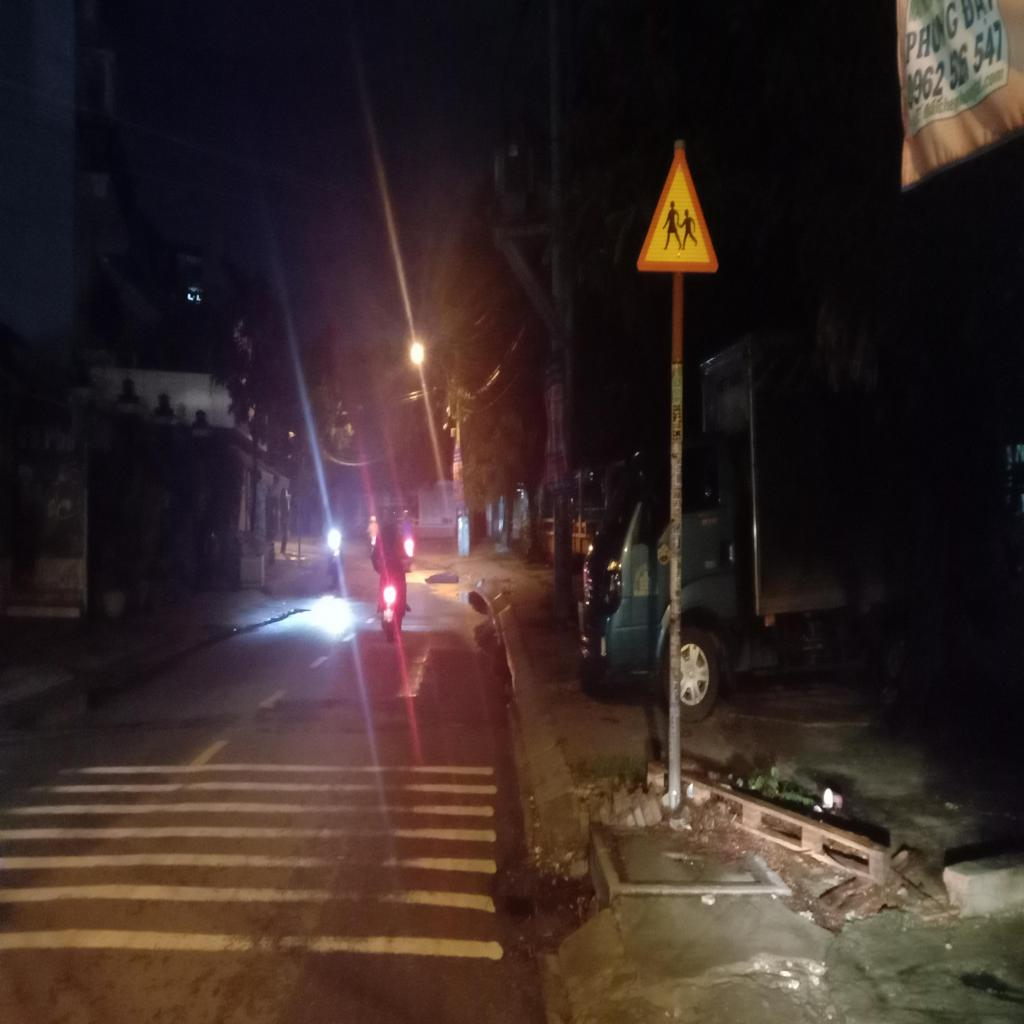chu_y_tre_em: (636, 148, 722, 270)
